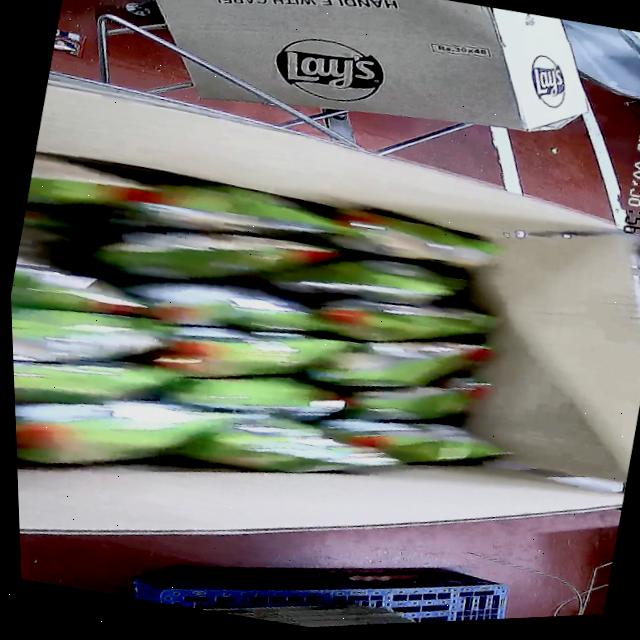YOGURT_HERB: (6, 128, 555, 564)
